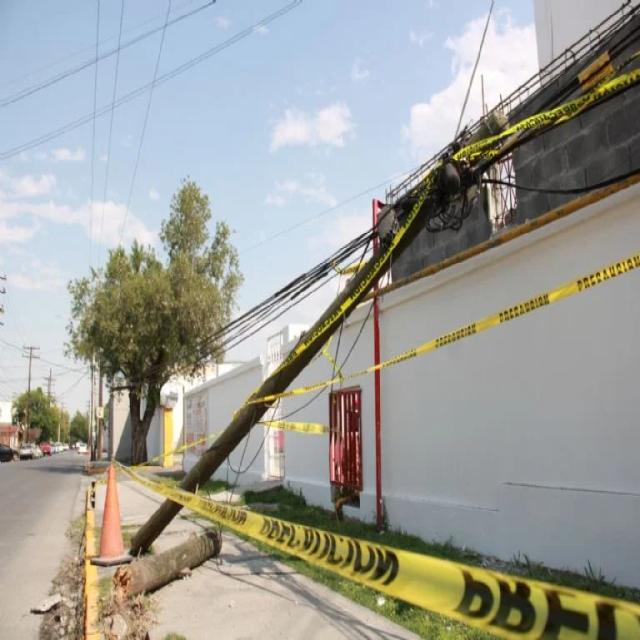Inclined Pole: (124, 126, 486, 553), (108, 516, 227, 604)
